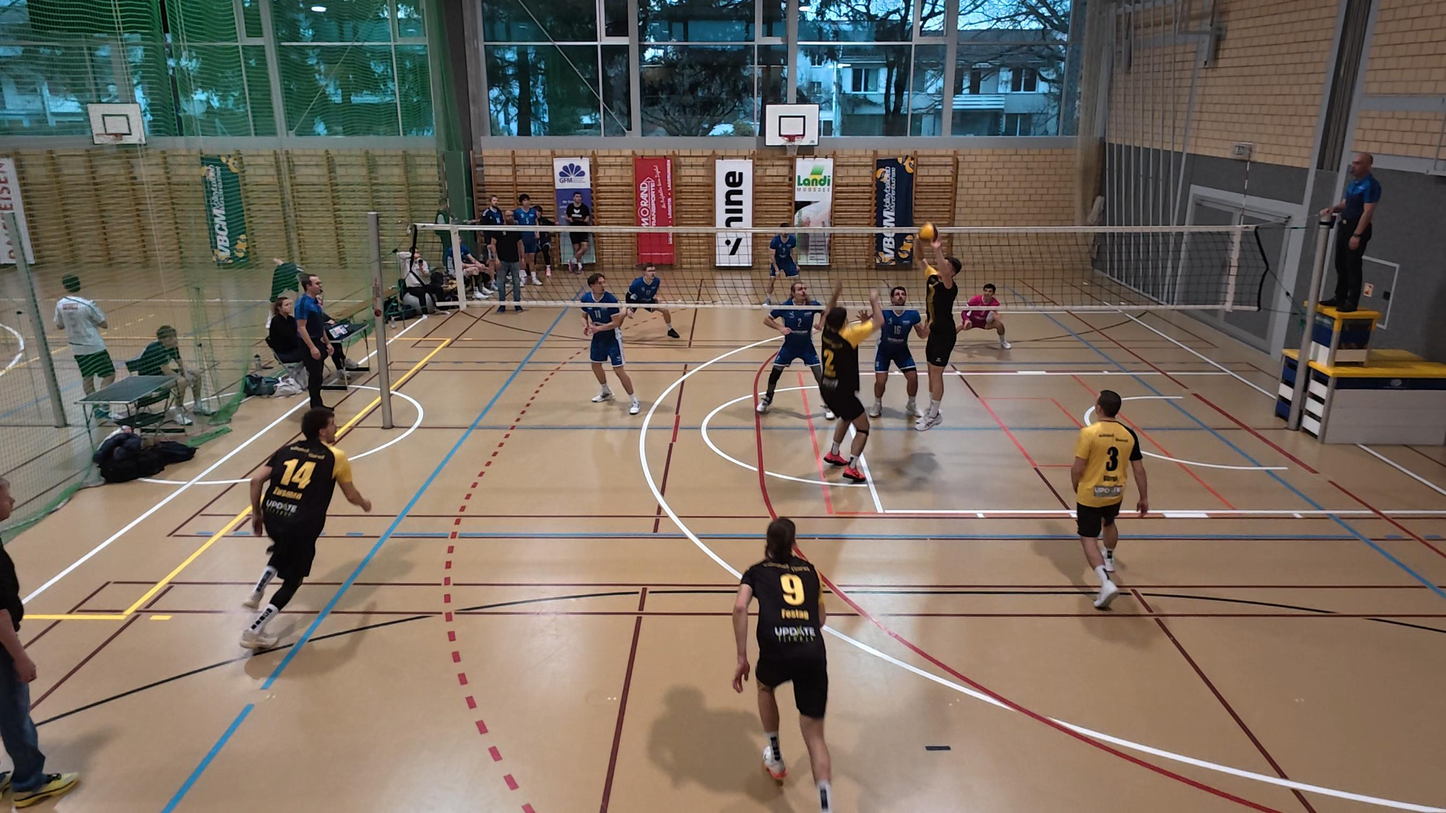alzata: (913, 238, 969, 428)
